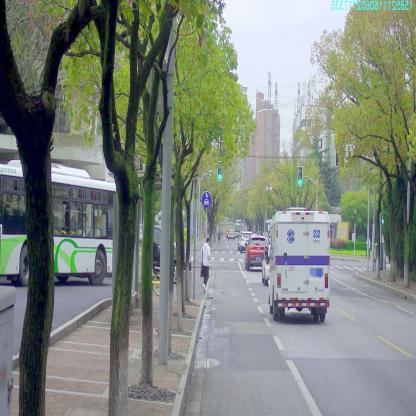traffic-light: (298, 166, 303, 186), (218, 161, 222, 181)
